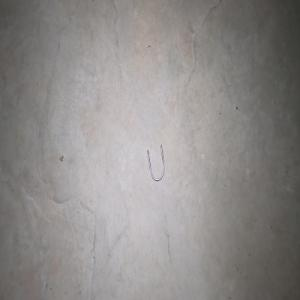ClampPart: (146, 144, 164, 181)
